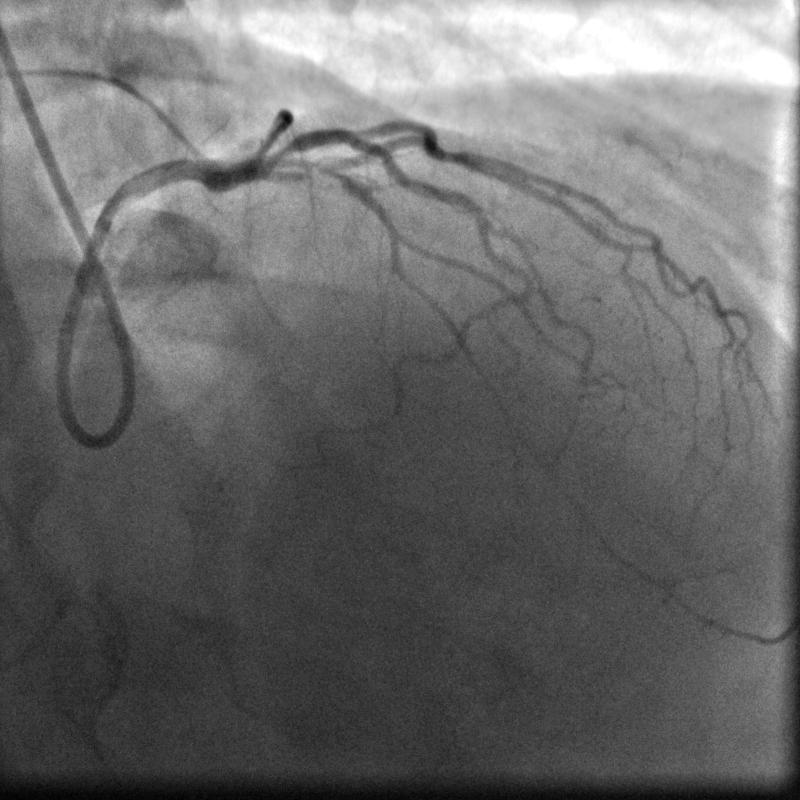Stenosis: (264, 138, 294, 168)
